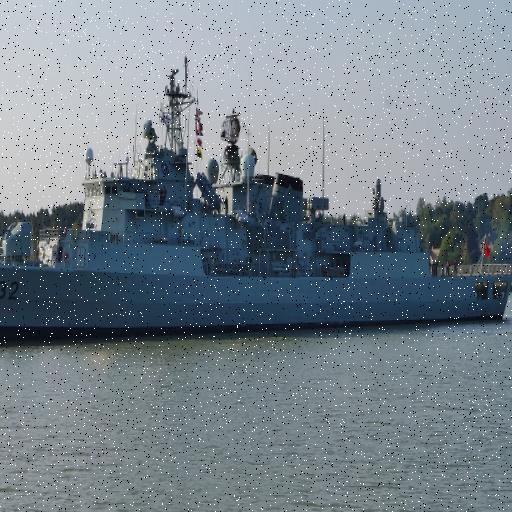Fragata: (1, 40, 512, 360)
